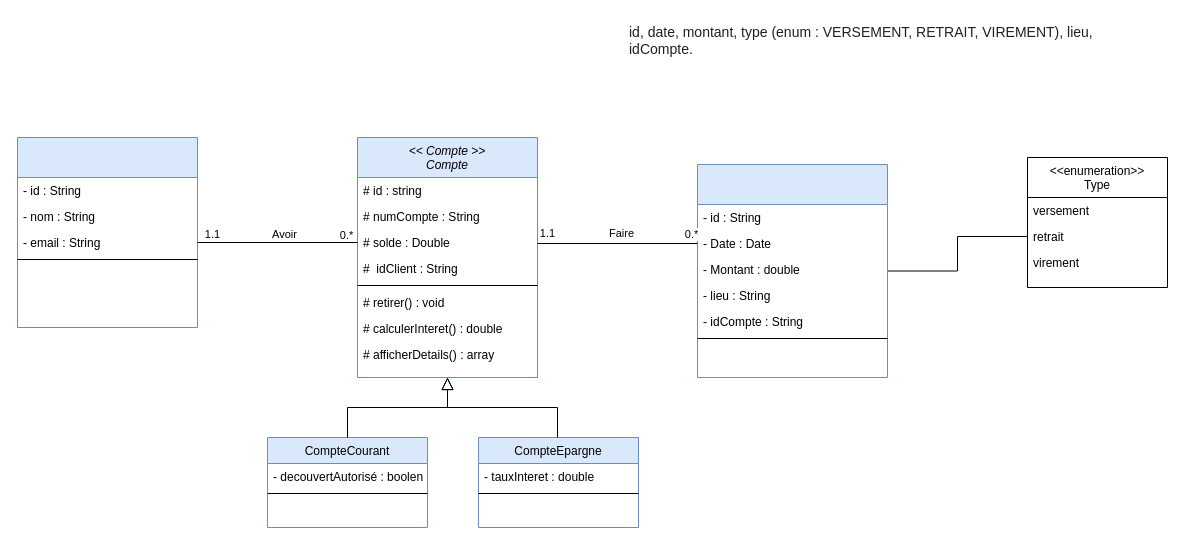
The diagram is 1185 pixels wide and 545 high, and some of its shapes have lost their labels. The shapes that lost their labels are listed below. From the top down, each one's box as (x1, y1, x2, y2) in pixels, then its label:
(16, 136, 198, 328): Client
(696, 164, 888, 378): Transaction
